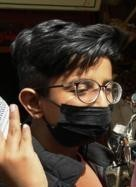with_mask: (23, 27, 123, 144)
